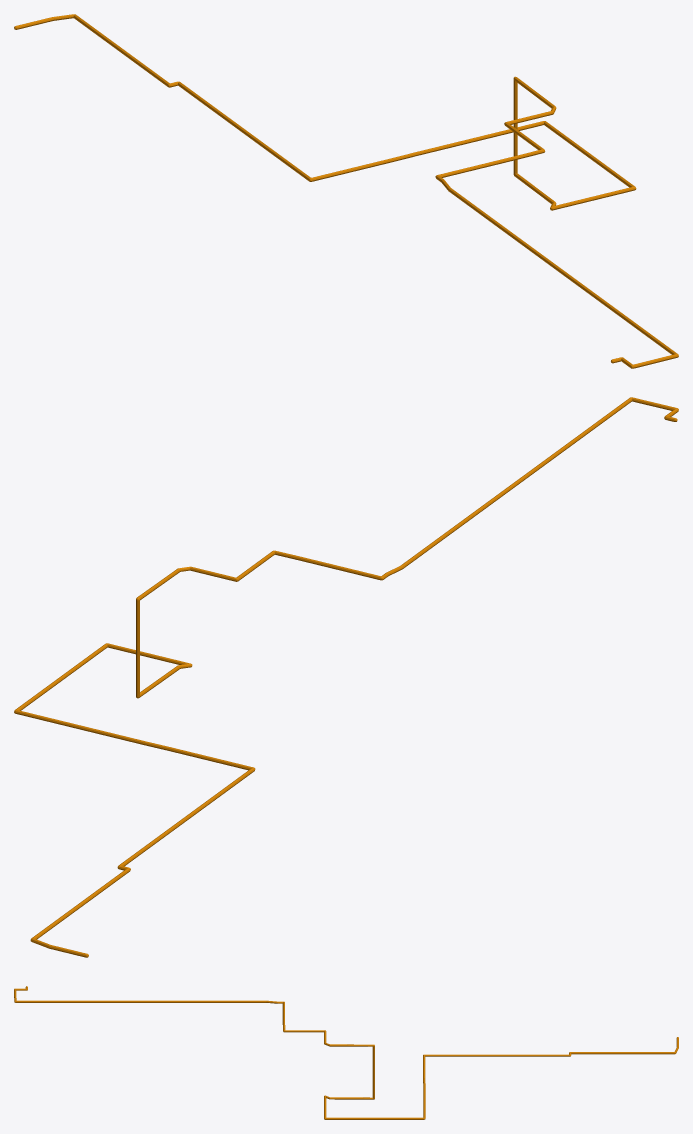
3 views of the same model, one above another, from view 1: azimuth 30°, elevation 25°; view 2: azimuth 150°, elevation 25°; view 3: azimuth 270°, elevation 25° (orthographic). The views are drawn at different scales.
Size of the model in its own units: 1656 by 520 by 5695.
